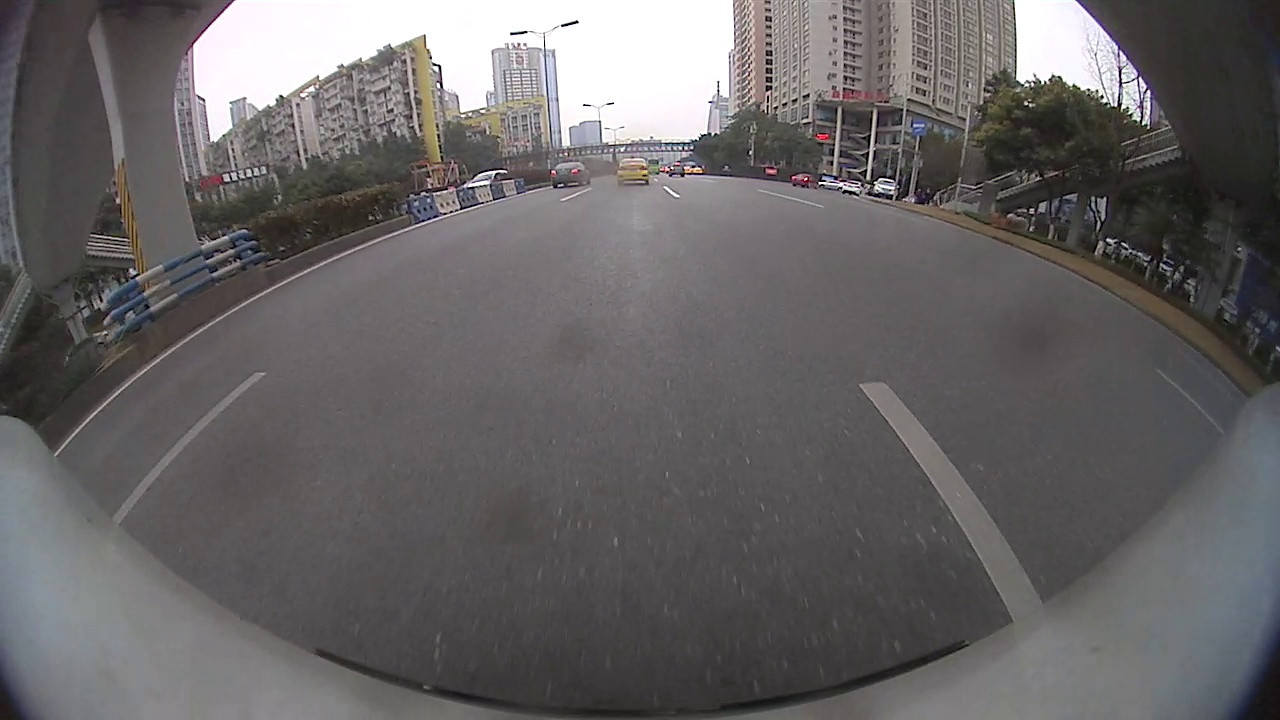car: (548, 159, 591, 190), (615, 157, 651, 185), (466, 168, 515, 188), (872, 176, 900, 200), (791, 171, 819, 189), (840, 180, 865, 198), (821, 178, 843, 190), (668, 163, 684, 179)
